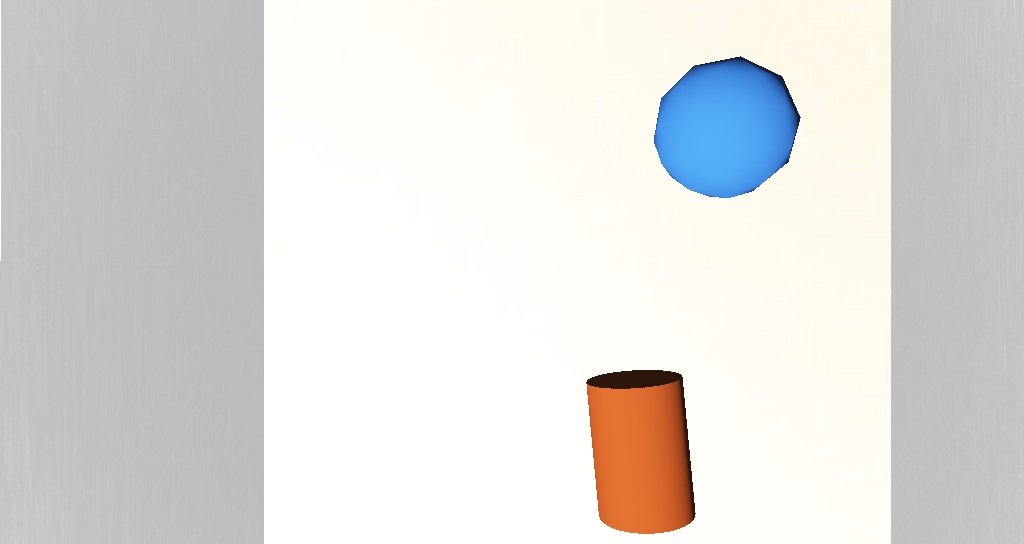cone: (505, 303, 559, 356)
cylinder: (549, 418, 637, 508)
sphere: (542, 203, 603, 246)
